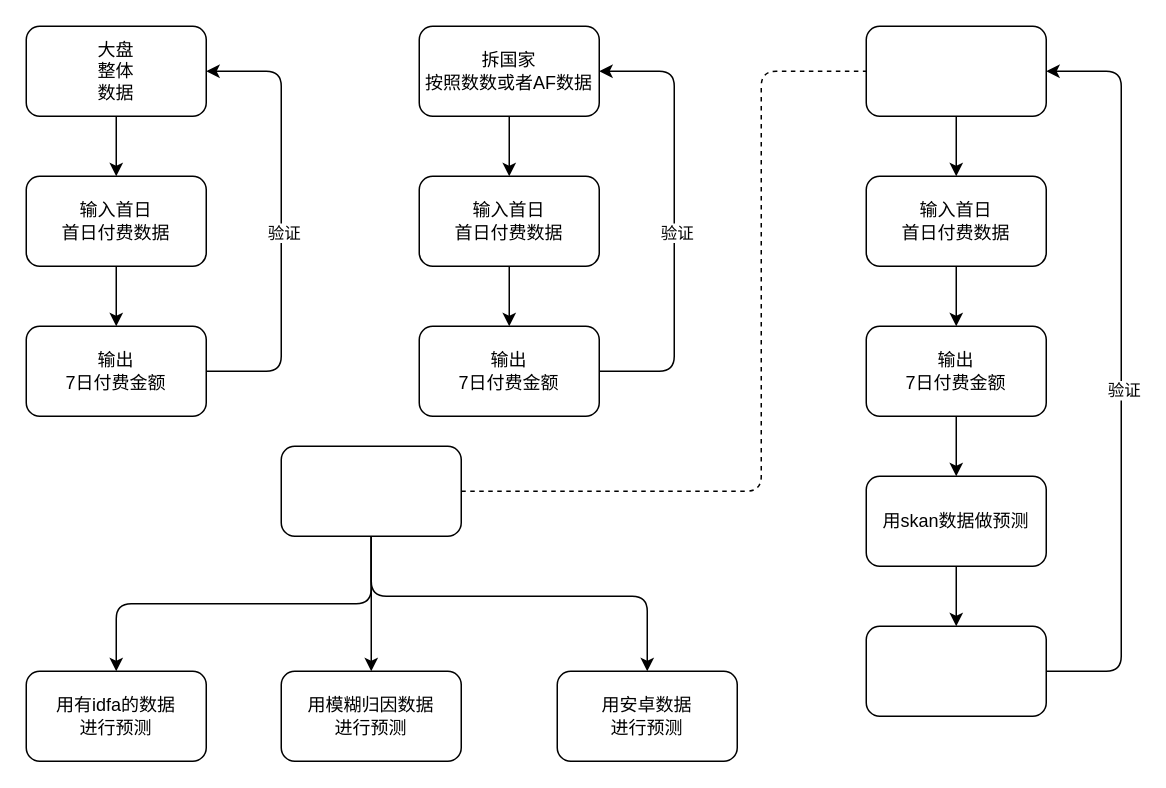
Image size: 1166x788. Some labels were removed from this diagram. Each missing label, with the centre of its shape:
媒体拆分预测: point 370,490
得到媒体预测值: point 955,670
拆媒体 只能按照AF归因 把能确定媒体的量: point 955,70
